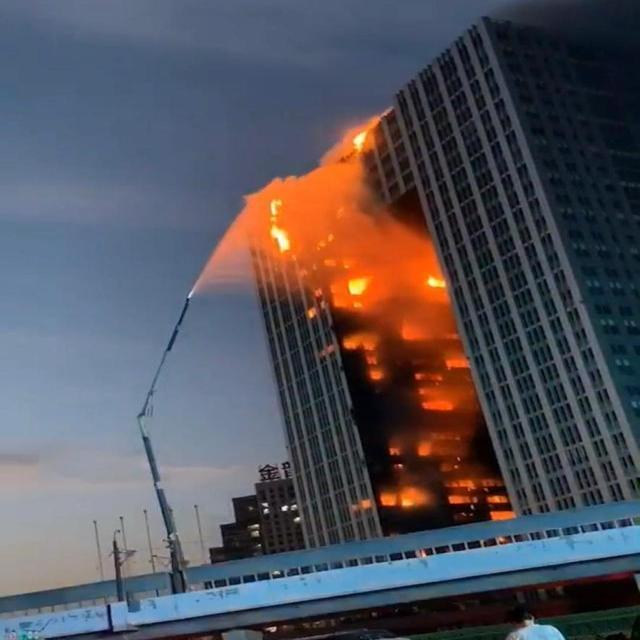Fire: (264, 195, 302, 249), (348, 274, 371, 298), (422, 272, 447, 292), (351, 127, 366, 150)
